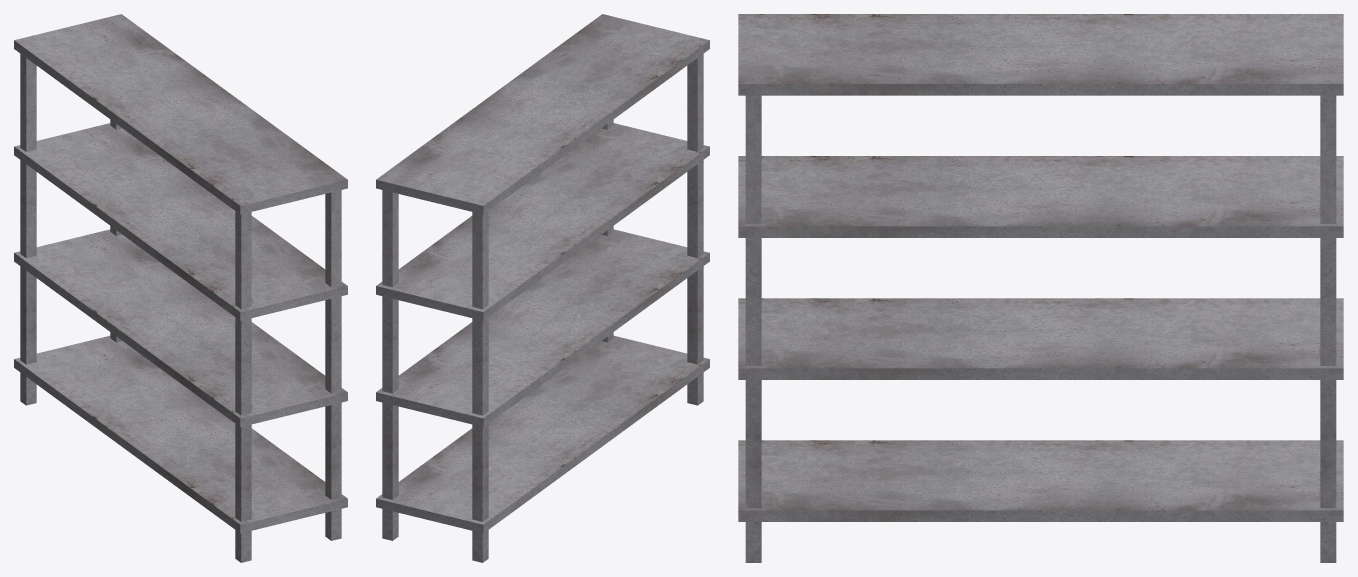
File: Bare.fbx
3 renders of one model, left to right at view 1: azimuth 30°, elevation 25°; view 2: azimuth 150°, elevation 25°; view 3: azimuth 270°, elevation 25°, orthographic. The views are drawn at different scales.
Visible parts, largest first — view 1: Shelving.001; view 2: Shelving.001; view 3: Shelving.001.
Boxes of the visible parts, x1,y1,x2,y2 form: Shelving.001: [14, 14, 347, 562]; Shelving.001: [376, 14, 709, 562]; Shelving.001: [738, 14, 1343, 562].
Size of the model in its own units: 102 by 325 by 371.
